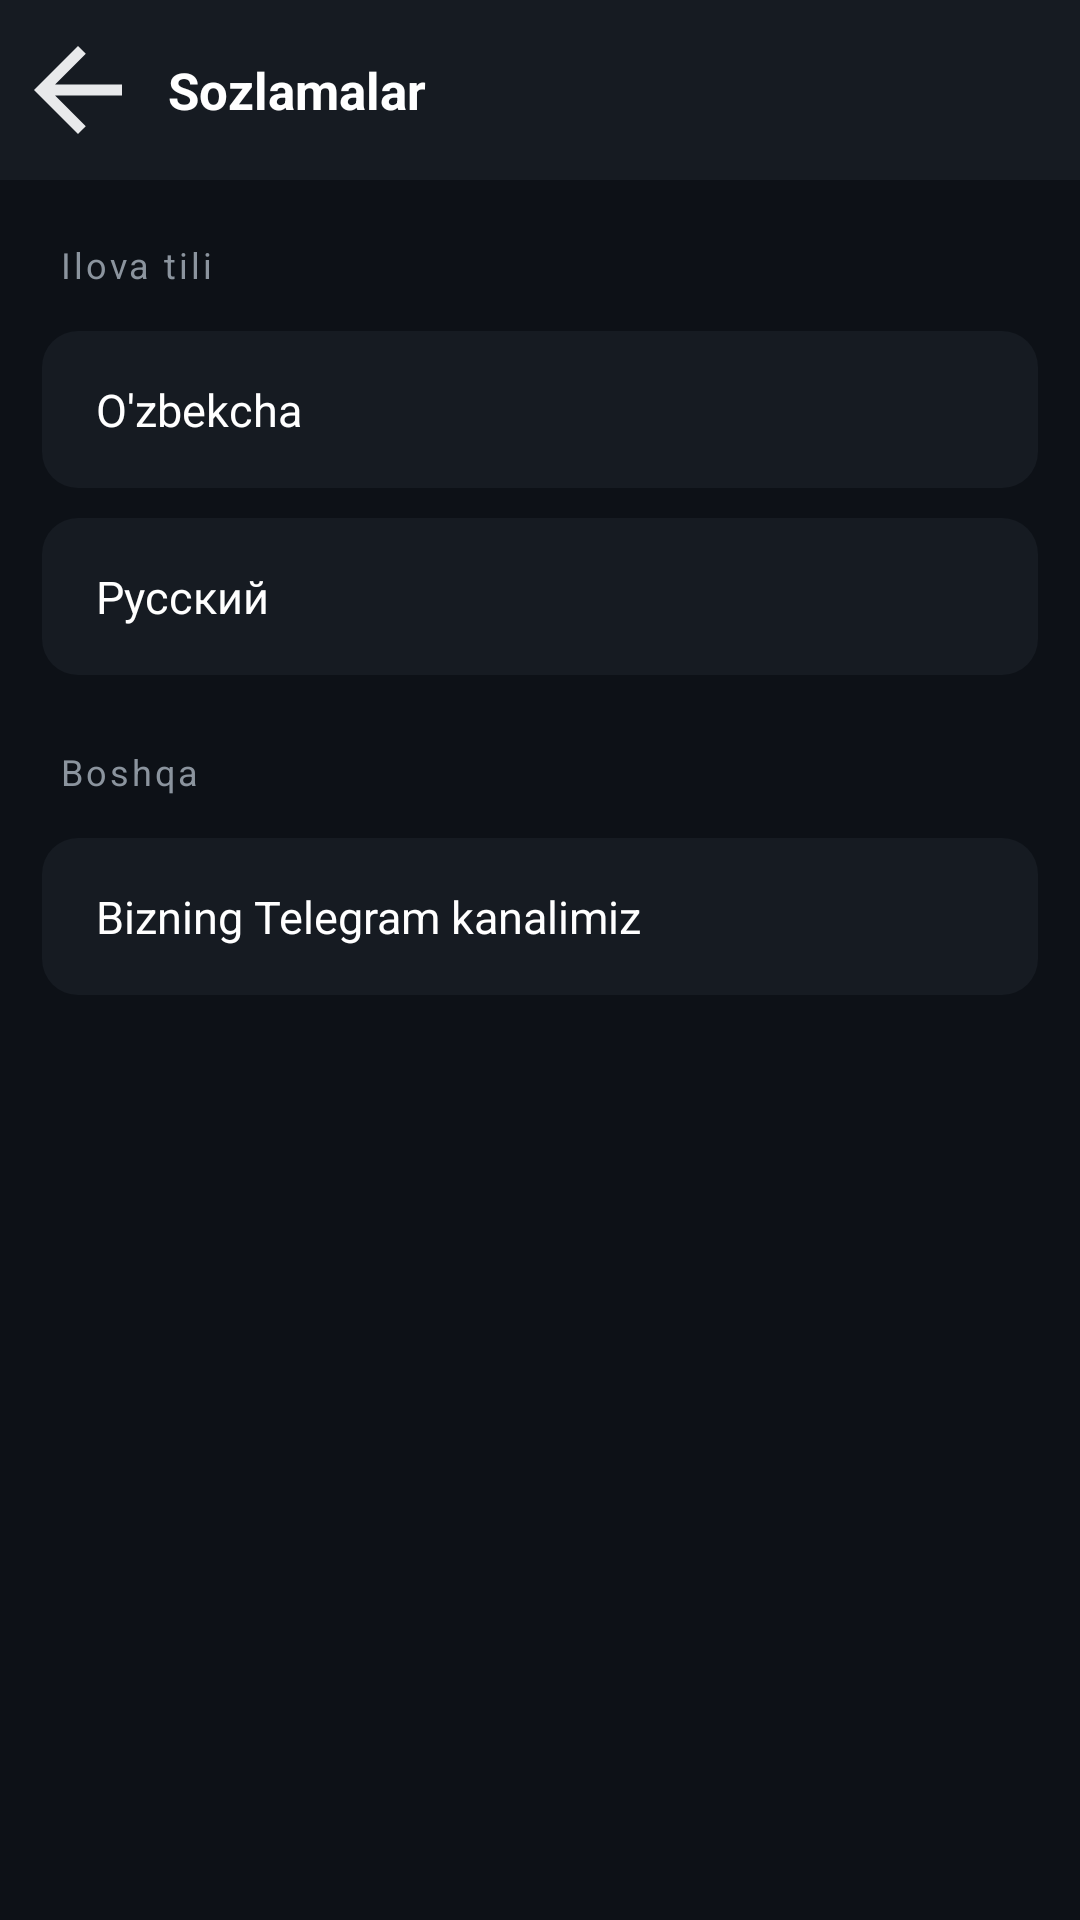

Locate icon controls on the screen. Image size 1080px x 1920px, boxes as (x1, y1, x2, y2).
Orqaga: (34, 46, 122, 134)
